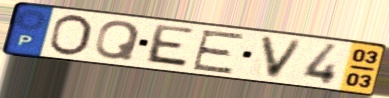4: (299, 42, 340, 86)
E: (189, 29, 248, 76), (141, 23, 197, 71)
O: (46, 13, 95, 58)
Q: (92, 19, 143, 63)
V: (257, 34, 307, 82)
